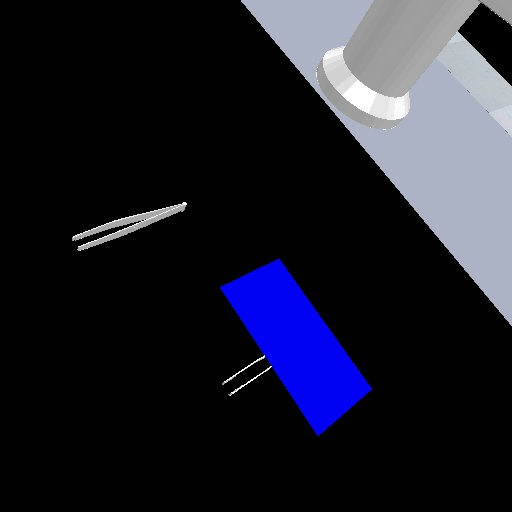pinza: (68, 197, 189, 255), (220, 352, 275, 400)
